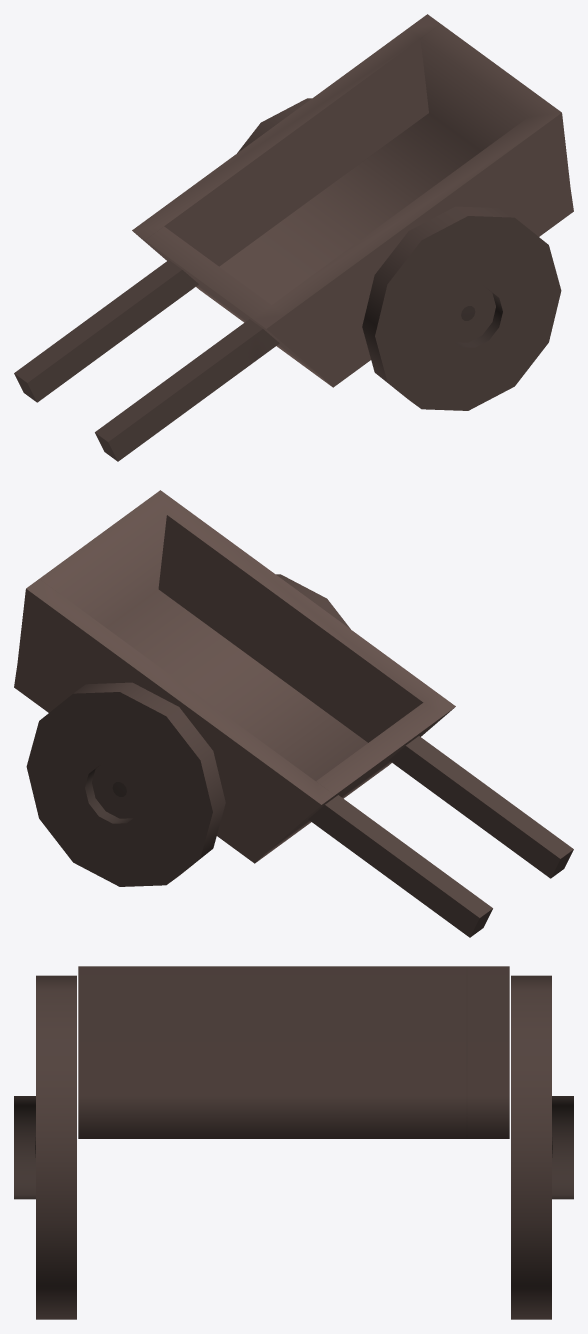
Rendered from cart.fbx.
The picture shows the model from 3 angles, top to bottom: view 1: azimuth 30°, elevation 25°; view 2: azimuth 150°, elevation 25°; view 3: azimuth 270°, elevation 25°; orthographic projection. The views are drawn at different scales.
Parts seen in each view (by area): view 1: Cube.001; view 2: Cube.001; view 3: Cube.001.
Boxes of the visible parts, <box> form: Cube.001: <box>14,14,573,461</box>; Cube.001: <box>14,490,573,937</box>; Cube.001: <box>14,966,573,1319</box>.
Bounding box in the file's own units: 191 × 108 × 130.
